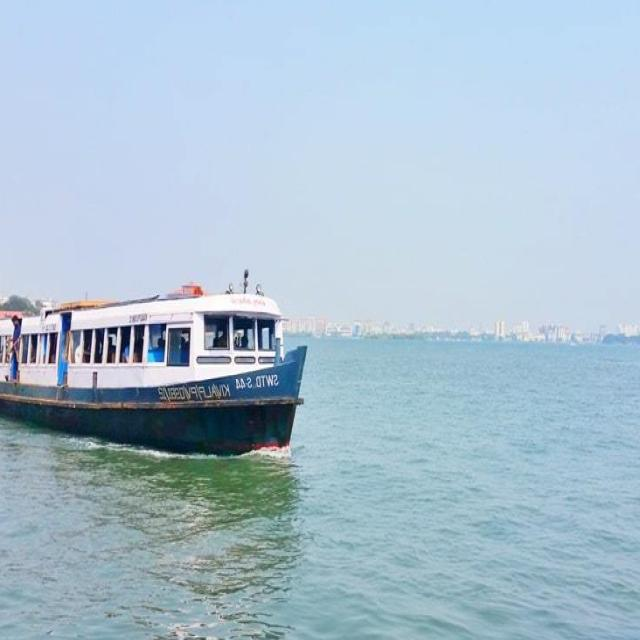passenger ship: (0, 249, 327, 429)
